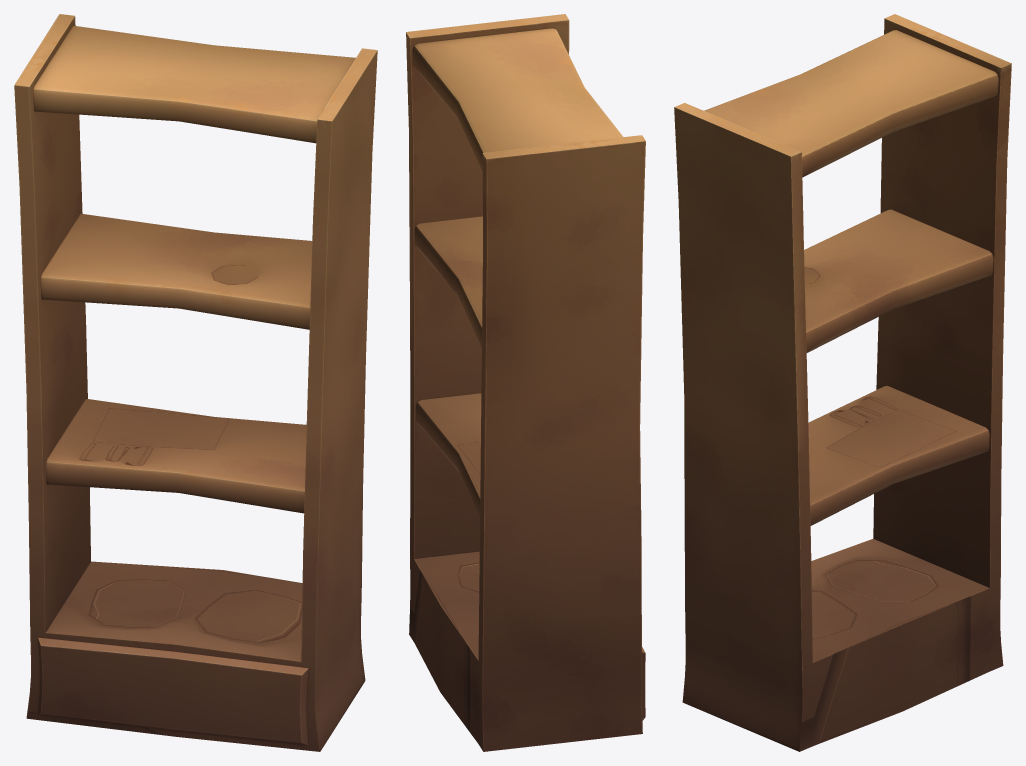
Rendered from MDL_DecoShelves.fbx.
The picture shows the model from 3 angles, left to right: view 1: azimuth 30°, elevation 25°; view 2: azimuth 150°, elevation 25°; view 3: azimuth 270°, elevation 25°; orthographic projection. The views are drawn at different scales.
Visible parts, largest first — view 1: MDL_DecoShelves; view 2: MDL_DecoShelves; view 3: MDL_DecoShelves.
Part boxes in pixels (x1,y1,x2,y2): MDL_DecoShelves: (14, 14, 377, 751); MDL_DecoShelves: (406, 14, 645, 751); MDL_DecoShelves: (674, 14, 1011, 751).
Bounding box in the file's own units: 176 × 343 × 176.
